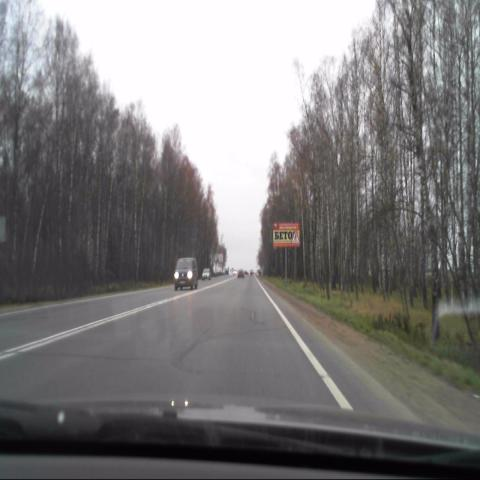1_22: (290, 230, 300, 246)
